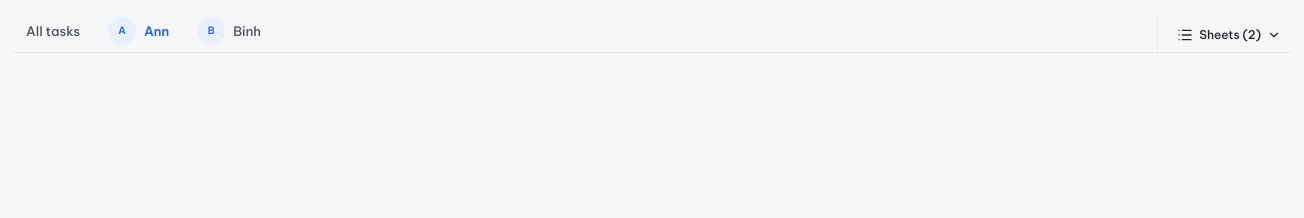
Test case: SheetTabs › finds a sheet by name in the list and opens it
The width and height of the screenshot is (1304, 218).
Click the button "Sheets (2)" at (1229, 35), box [1166,22,1292,48]
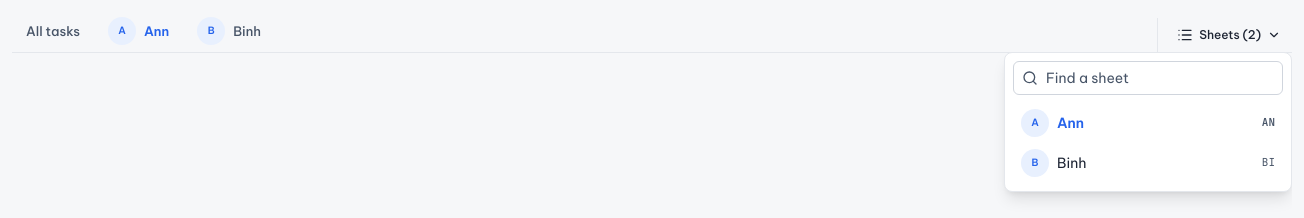
Type "bin" into the field labelled "Find a sheet" at (1160, 78), box [1046,62,1274,94]
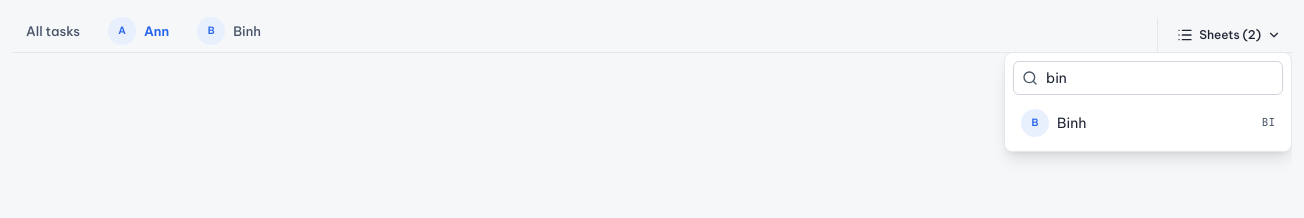
Click the 2nd text "Binh" at (1072, 123), box [1057,114,1086,132]
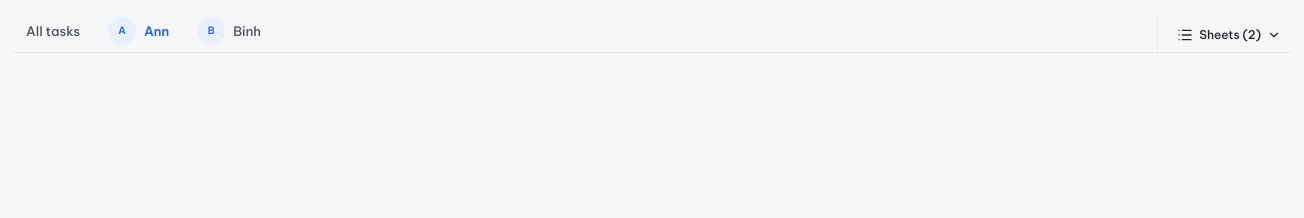
Now the list is gone
